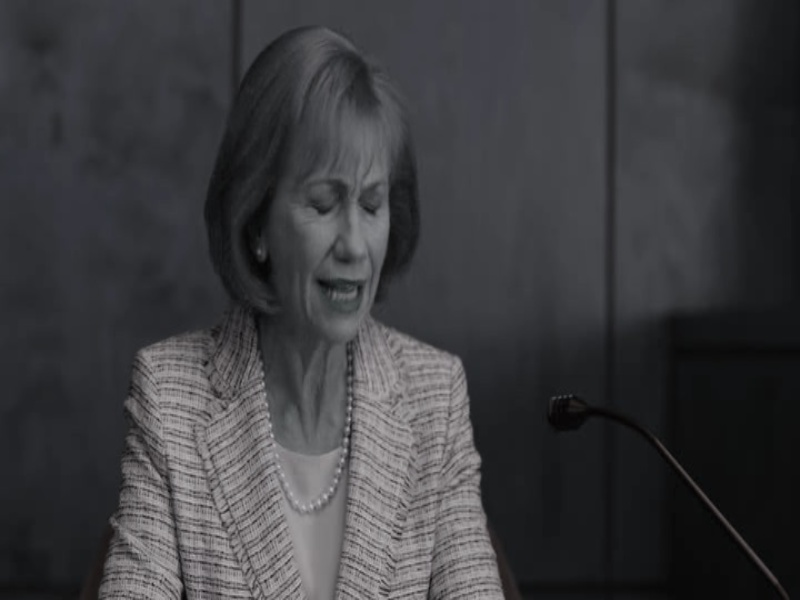TsisyArotava: (240, 60, 420, 358)
